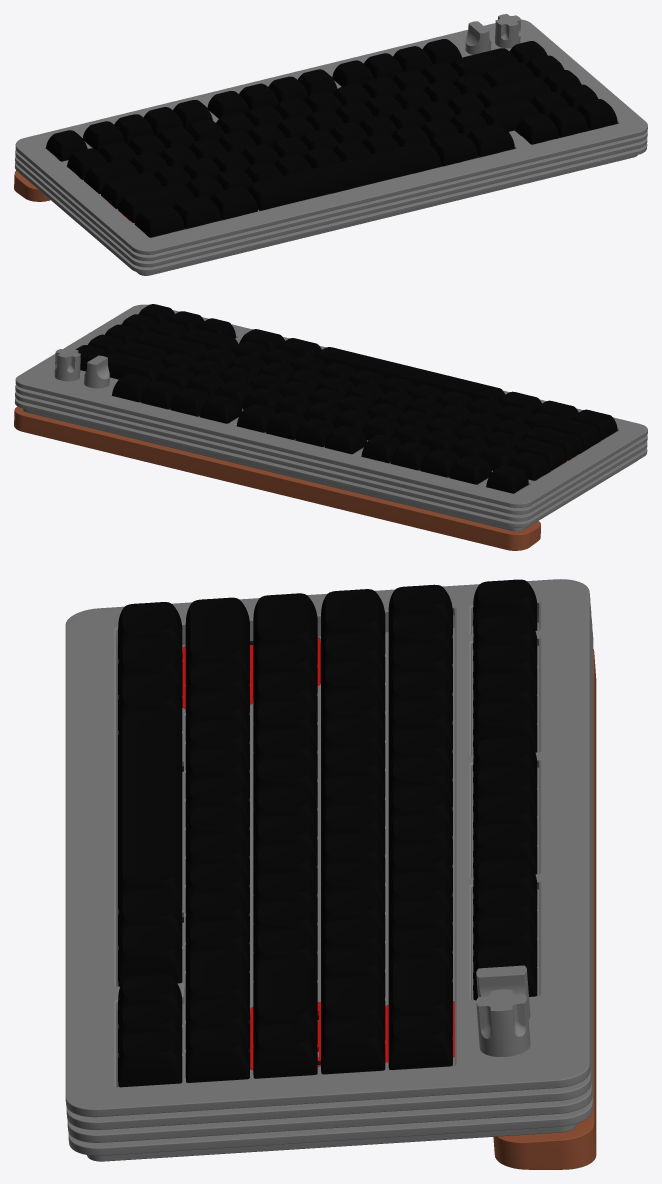
The model's file is keyboard-ar.glb.
3 renders of one model, top to bottom at view 1: azimuth 30°, elevation 25°; view 2: azimuth 150°, elevation 25°; view 3: azimuth 270°, elevation 25°, orthographic. The views are drawn at different scales.
Parts seen in each view (by area): view 1: L_ARRAY S08, Keycaps L_ARRAY polySurface891, L_ARRAY S04, L_ARRAY S06, L_ARRAY S02, Keycaps L_ARRAY polySurface834, Keycaps L_ARRAY polySurface835, Keycaps L_ARRAY polySurface675, L_ARRAY S01, Keycaps L_ARRAY polySurface925, Keycaps L_ARRAY polySurface621, Keycaps L_ARRAY polySurface620 (+76 smaller); view 2: L_ARRAY S08, L_ARRAY Rialzo, L_ARRAY S04, L_ARRAY S06, L_ARRAY S02, Keycaps L_ARRAY polySurface891, L_ARRAY S01, Keycaps L_ARRAY polySurface834, Keycaps L_ARRAY polySurface925, Keycaps L_ARRAY polySurface835, Keycaps L_ARRAY polySurface620, Keycaps L_ARRAY polySurface144 (+76 smaller); view 3: L_ARRAY S08, Keycaps L_ARRAY polySurface891, L_ARRAY S06, L_ARRAY S02, L_ARRAY S04, L_ARRAY S05, L_ARRAY Rialzo, Keycaps L_ARRAY polySurface835, Keycaps L_ARRAY polySurface834, Keycaps L_ARRAY polySurface925, Keycaps L_ARRAY polySurface201, Keycaps L_ARRAY polySurface621 (+78 smaller).
Part boxes in pixels (x1=…): L_ARRAY S08: x1=15, y1=19, x2=647, y2=254; Keycaps L_ARRAY polySurface891: x1=247, y1=142, x2=441, y2=210; L_ARRAY S04: x1=15, y1=137, x2=647, y2=267; L_ARRAY S06: x1=15, y1=82, x2=647, y2=261; L_ARRAY S02: x1=15, y1=143, x2=647, y2=273; Keycaps L_ARRAY polySurface834: x1=118, y1=183, x2=194, y2=222; Keycaps L_ARRAY polySurface835: x1=477, y1=77, x2=551, y2=107; Keycaps L_ARRAY polySurface675: x1=134, y1=204, x2=184, y2=237; L_ARRAY S01: x1=82, y1=155, x2=637, y2=275; Keycaps L_ARRAY polySurface925: x1=451, y1=48, x2=518, y2=76; Keycaps L_ARRAY polySurface621: x1=480, y1=99, x2=539, y2=131; Keycaps L_ARRAY polySurface620: x1=101, y1=172, x2=162, y2=208; L_ARRAY S08: x1=15, y1=304, x2=647, y2=507; L_ARRAY Rialzo: x1=14, y1=406, x2=540, y2=550; L_ARRAY S04: x1=15, y1=391, x2=647, y2=521; L_ARRAY S06: x1=15, y1=385, x2=647, y2=514; L_ARRAY S02: x1=14, y1=398, x2=647, y2=527; Keycaps L_ARRAY polySurface891: x1=315, y1=347, x2=505, y2=401; L_ARRAY S01: x1=23, y1=408, x2=637, y2=531; Keycaps L_ARRAY polySurface834: x1=525, y1=412, x2=600, y2=449; Keycaps L_ARRAY polySurface925: x1=105, y1=352, x2=165, y2=383; Keycaps L_ARRAY polySurface835: x1=134, y1=331, x2=207, y2=362; Keycaps L_ARRAY polySurface620: x1=522, y1=426, x2=583, y2=460; Keycaps L_ARRAY polySurface144: x1=486, y1=465, x2=528, y2=493; L_ARRAY S08: x1=65, y1=579, x2=590, y2=1117; Keycaps L_ARRAY polySurface891: x1=118, y1=709, x2=182, y2=910; L_ARRAY S06: x1=66, y1=604, x2=591, y2=1129; L_ARRAY S02: x1=68, y1=630, x2=593, y2=1155; L_ARRAY S04: x1=67, y1=617, x2=592, y2=1142; L_ARRAY S05: x1=118, y1=622, x2=538, y2=1087; L_ARRAY Rialzo: x1=493, y1=649, x2=596, y2=1169; Keycaps L_ARRAY polySurface835: x1=253, y1=958, x2=317, y2=1045; Keycaps L_ARRAY polySurface834: x1=185, y1=597, x2=249, y2=683; Keycaps L_ARRAY polySurface925: x1=388, y1=957, x2=452, y2=1036; Keycaps L_ARRAY polySurface201: x1=253, y1=1023, x2=317, y2=1078; Keycaps L_ARRAY polySurface621: x1=185, y1=949, x2=249, y2=1020.
Size of the model in its own units: 0.3325 by 0.0427 by 0.1488.
